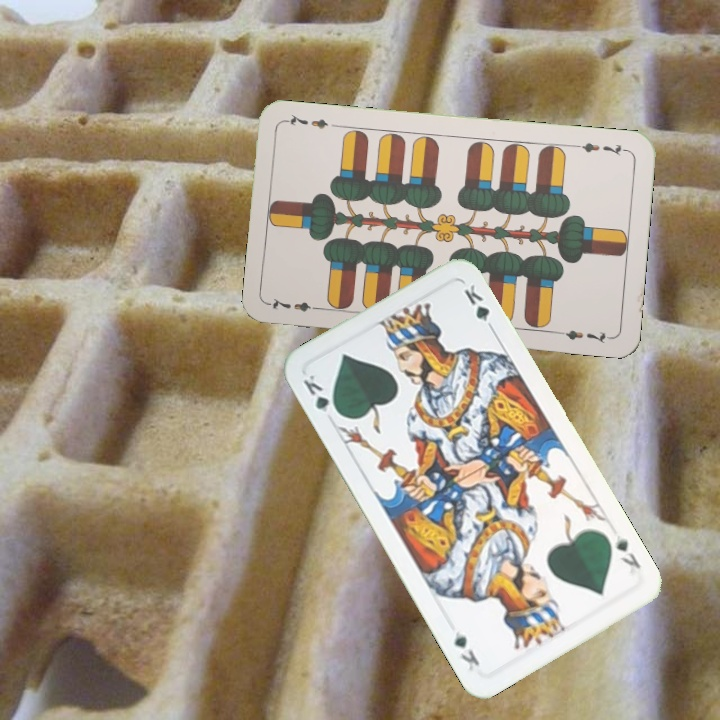E7: (266, 294, 325, 315), (571, 138, 630, 158)
GK: (299, 370, 343, 419), (610, 530, 643, 572)
